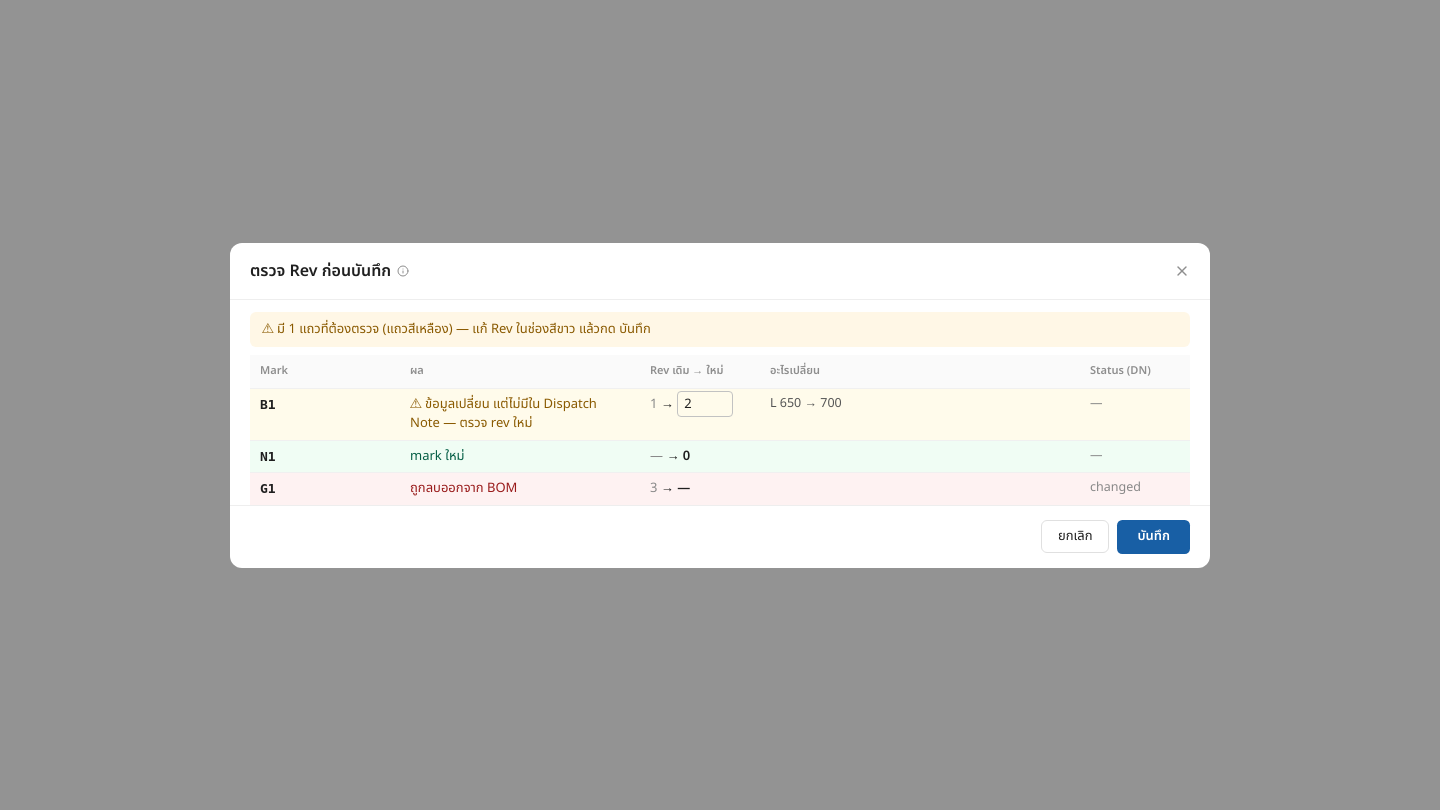
RevReviewDialog › a rev below the current one shows a plain error and blocks save
This screenshot has width=1440, height=810.
Replace the text in the field named "Rev ใหม่ของ B1" with "0" at (705, 404), box top-left (677, 390), bottom-right (733, 416)
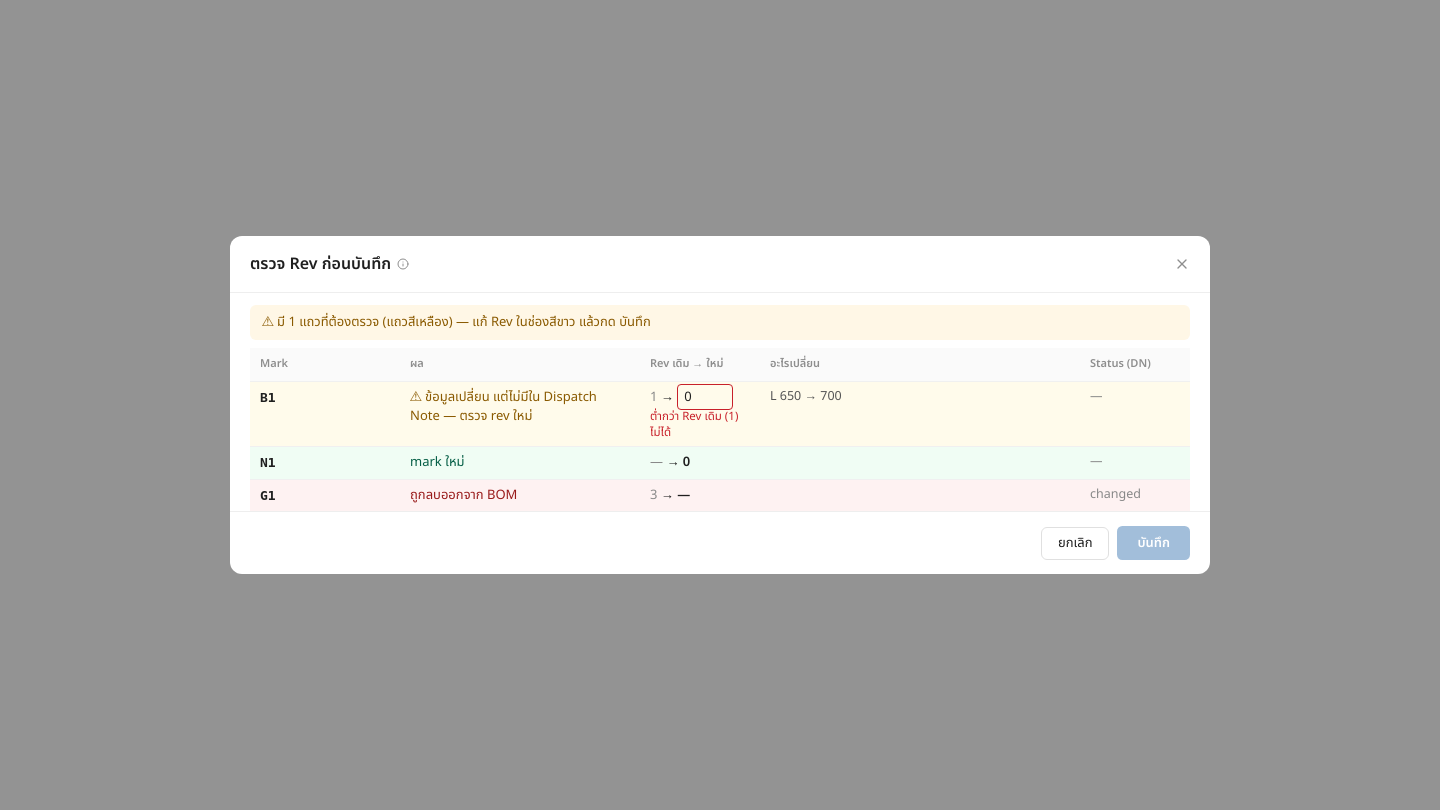
Check: the text "ต่ำกว่า Rev เดิม (1) ไม่ได้" is shown, box top-left (650, 409), bottom-right (750, 440)
Check: the button "บันทึก" is disabled, box top-left (1118, 526), bottom-right (1190, 560)
